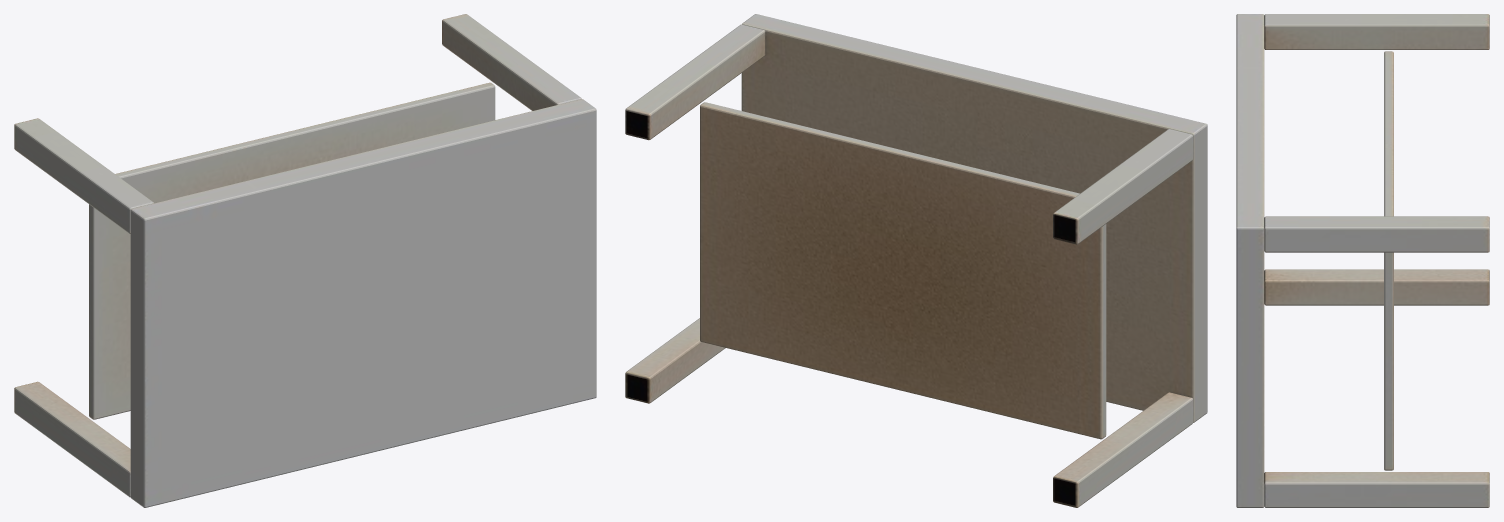
3 renders of one model, left to right at view 1: azimuth 30°, elevation 25°; view 2: azimuth 150°, elevation 25°; view 3: azimuth 270°, elevation 25°, orthographic. The views are drawn at different scales.
Visible parts, largest first — view 1: B2b_final.001; view 2: B2b_final.001; view 3: B2b_final.001.
Boxes of the visible parts, x1,y1,x2,y2 form: B2b_final.001: [14, 14, 596, 507]; B2b_final.001: [625, 14, 1207, 507]; B2b_final.001: [1236, 14, 1489, 507].
Bounding box in the file's own units: 0.9 × 0.55 × 0.45.
Materials: 1 (1 with a texture image).
